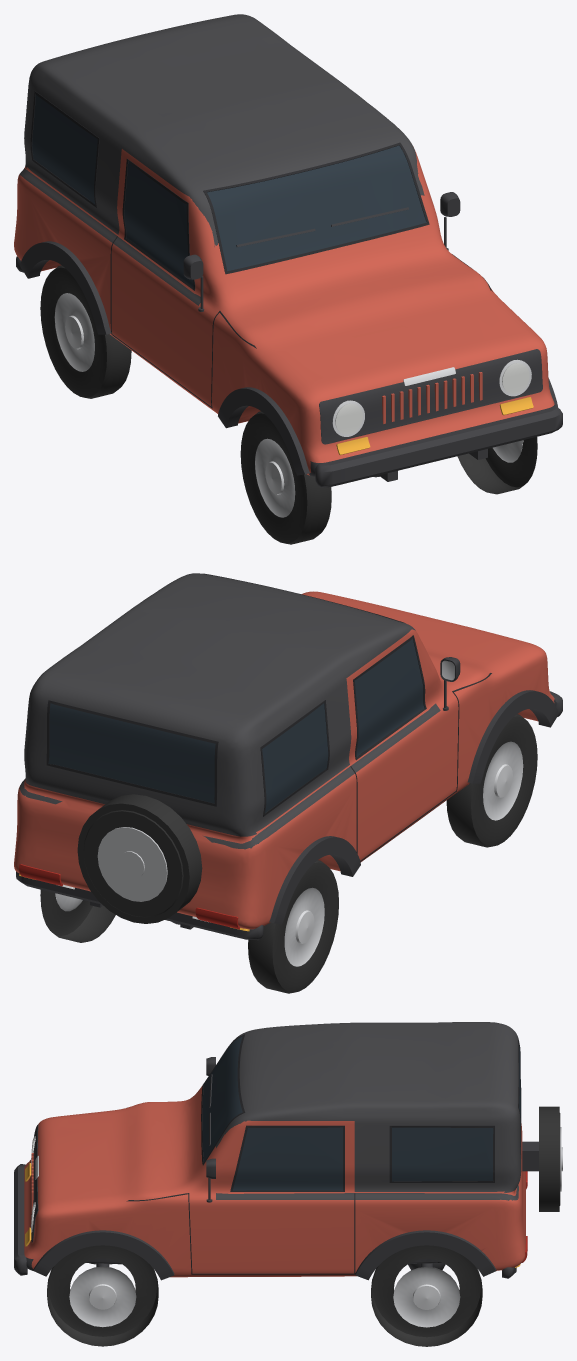
The picture shows the model from 3 angles, top to bottom: view 1: azimuth 30°, elevation 25°; view 2: azimuth 150°, elevation 25°; view 3: azimuth 270°, elevation 25°; orthographic projection. The views are drawn at different scales.
Parts seen in each view (by area): view 1: paint, trim, glass, wheel_fr, wheel_rr, wheel_fl, headlights, mirrors; view 2: paint, trim, glass, wheel_rr, wheel_fr, wheel_rl, taillights, mirrors; view 3: paint, glass, trim, wheel_rl, wheel_fl, mirrors.
Boxes of the visible parts, <box> form: paint: <box>14,14,555,476</box>; trim: <box>16,91,562,487</box>; glass: <box>32,95,426,287</box>; wheel_fr: <box>240,411,331,544</box>; wheel_rr: <box>40,265,131,398</box>; wheel_fl: <box>457,437,537,494</box>; headlights: <box>335,363,529,434</box>; mirrors: <box>183,192,460,311</box>; paint: <box>14,573,555,929</box>; trim: <box>16,573,562,940</box>; glass: <box>48,638,424,812</box>; wheel_rr: <box>248,860,338,993</box>; wheel_fr: <box>446,714,537,847</box>; wheel_rl: <box>40,890,115,942</box>; taillights: <box>19,864,239,929</box>; mirrors: <box>440,657,460,710</box>; paint: <box>24,1022,525,1277</box>; glass: <box>202,1036,520,1190</box>; trim: <box>14,1034,562,1280</box>; wheel_rl: <box>371,1245,482,1346</box>; wheel_fl: <box>47,1245,158,1346</box>; mirrors: <box>206,1057,215,1202</box>.
Bounding box in the file's own units: 1.6 × 1.68 × 3.44.
